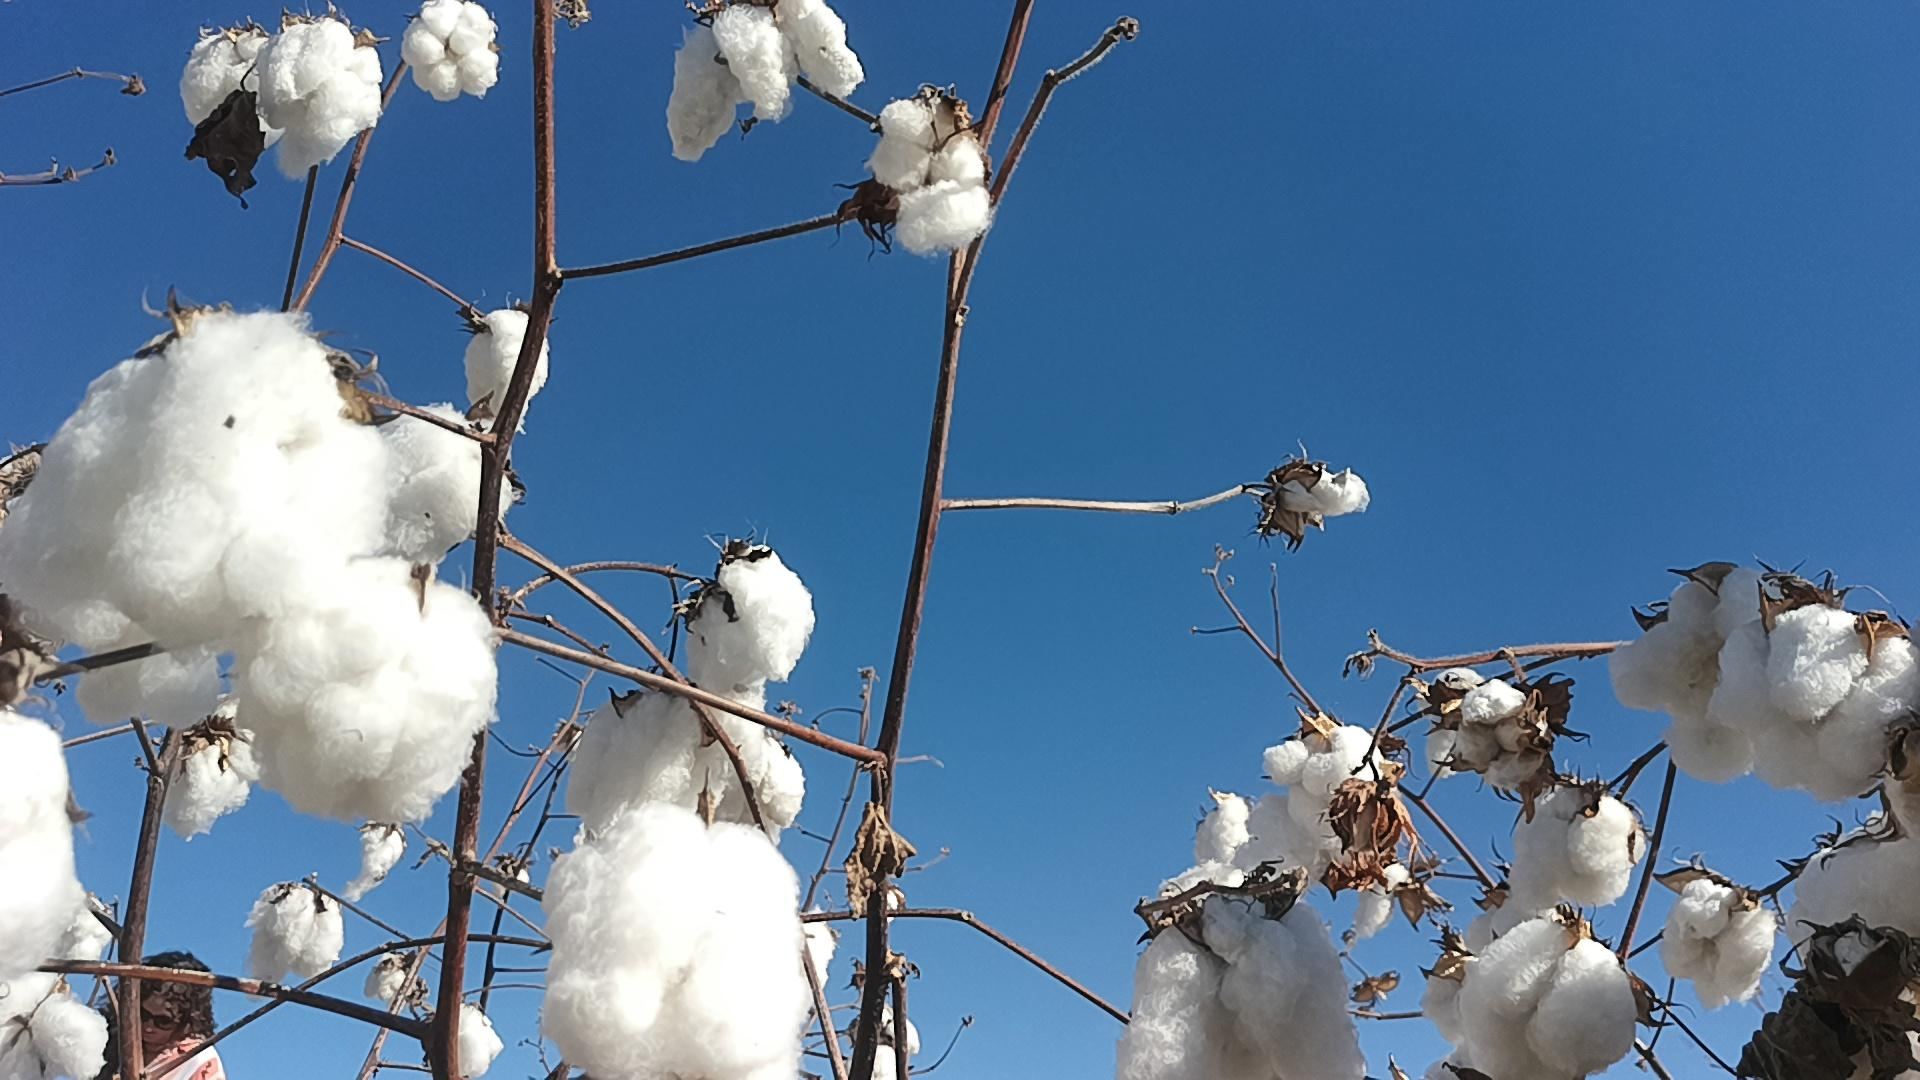cotton_ready: (0, 310, 386, 653), (542, 800, 811, 1080), (233, 556, 496, 828), (1118, 886, 1370, 1080), (1705, 600, 1920, 803), (1618, 571, 1789, 787), (667, 0, 868, 166), (1456, 915, 1635, 1080), (1780, 827, 1920, 1029), (566, 680, 731, 837), (1499, 779, 1651, 935), (0, 713, 88, 978), (256, 20, 385, 183), (376, 404, 508, 560), (868, 102, 993, 253), (1262, 729, 1389, 858), (698, 546, 816, 683), (76, 626, 225, 731), (1660, 881, 1775, 1015), (164, 702, 262, 843), (0, 965, 111, 1080), (460, 307, 555, 440), (179, 33, 287, 148), (245, 881, 348, 990), (1200, 793, 1311, 887), (400, 0, 501, 103), (1458, 675, 1556, 777), (717, 735, 806, 840), (683, 655, 770, 757), (1462, 887, 1568, 963), (1422, 669, 1484, 775), (423, 1004, 498, 1080), (786, 905, 831, 1026), (1420, 956, 1480, 1047), (1348, 865, 1418, 940), (140, 1029, 228, 1080), (860, 1007, 920, 1080), (348, 824, 406, 898), (1283, 473, 1367, 516), (1428, 1048, 1486, 1080)
